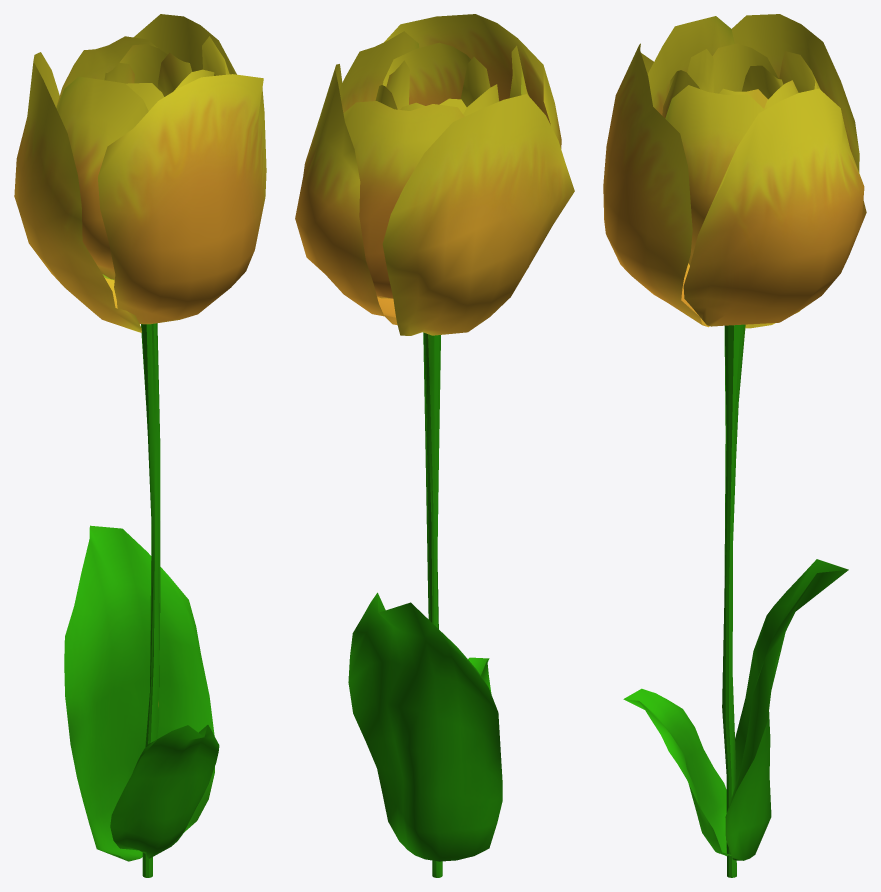
3 views of the same model, side by side, from view 1: azimuth 30°, elevation 25°; view 2: azimuth 150°, elevation 25°; view 3: azimuth 270°, elevation 25° (orthographic).
Visible parts, largest first — view 1: Tulip; view 2: Tulip; view 3: Tulip.
Part boxes in pixels (x1,y1,x2,y2): Tulip: [14, 14, 266, 877]; Tulip: [295, 14, 574, 877]; Tulip: [603, 14, 866, 877].
Bounding box in the file's own units: 1.68 × 6.24 × 1.8.
Materials: 1 (1 with a texture image).
